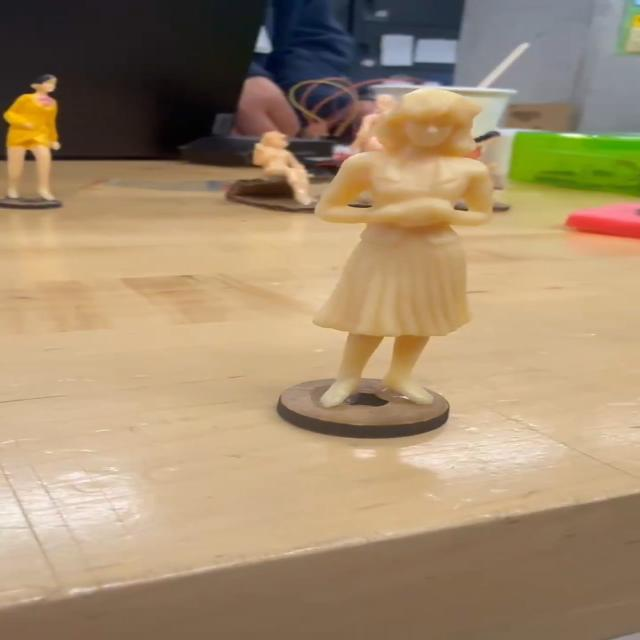Unauthorized: (327, 79, 496, 399)
